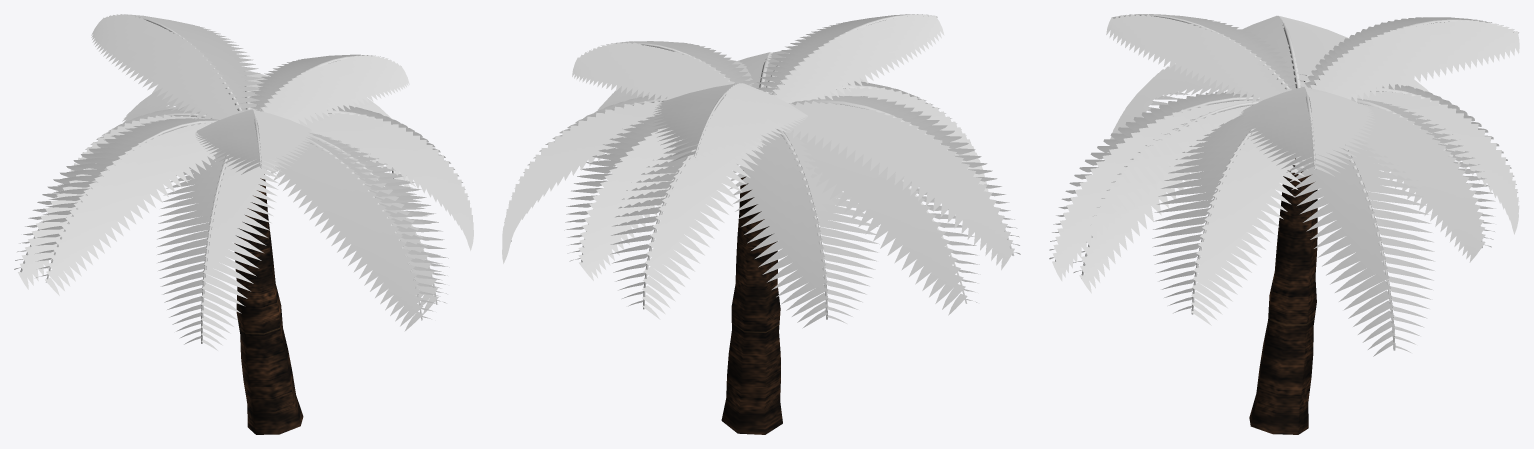
The model's file is Baumfarn_3.fbx.
3 renders of one model, left to right at view 1: azimuth 30°, elevation 25°; view 2: azimuth 150°, elevation 25°; view 3: azimuth 270°, elevation 25°, orthographic. The views are drawn at different scales.
Visible parts, largest first — view 1: Baumfarn_3; view 2: Baumfarn_3; view 3: Baumfarn_3.
Part boxes in pixels (x1,y1,x2,y2): Baumfarn_3: [14, 14, 473, 434]; Baumfarn_3: [502, 14, 1020, 434]; Baumfarn_3: [1049, 14, 1519, 434].
Size of the model in its own units: 4.02 by 3.33 by 3.67.
